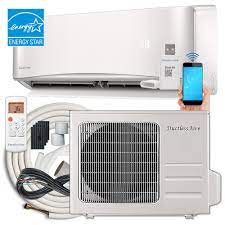ac: (11, 2, 223, 100)
